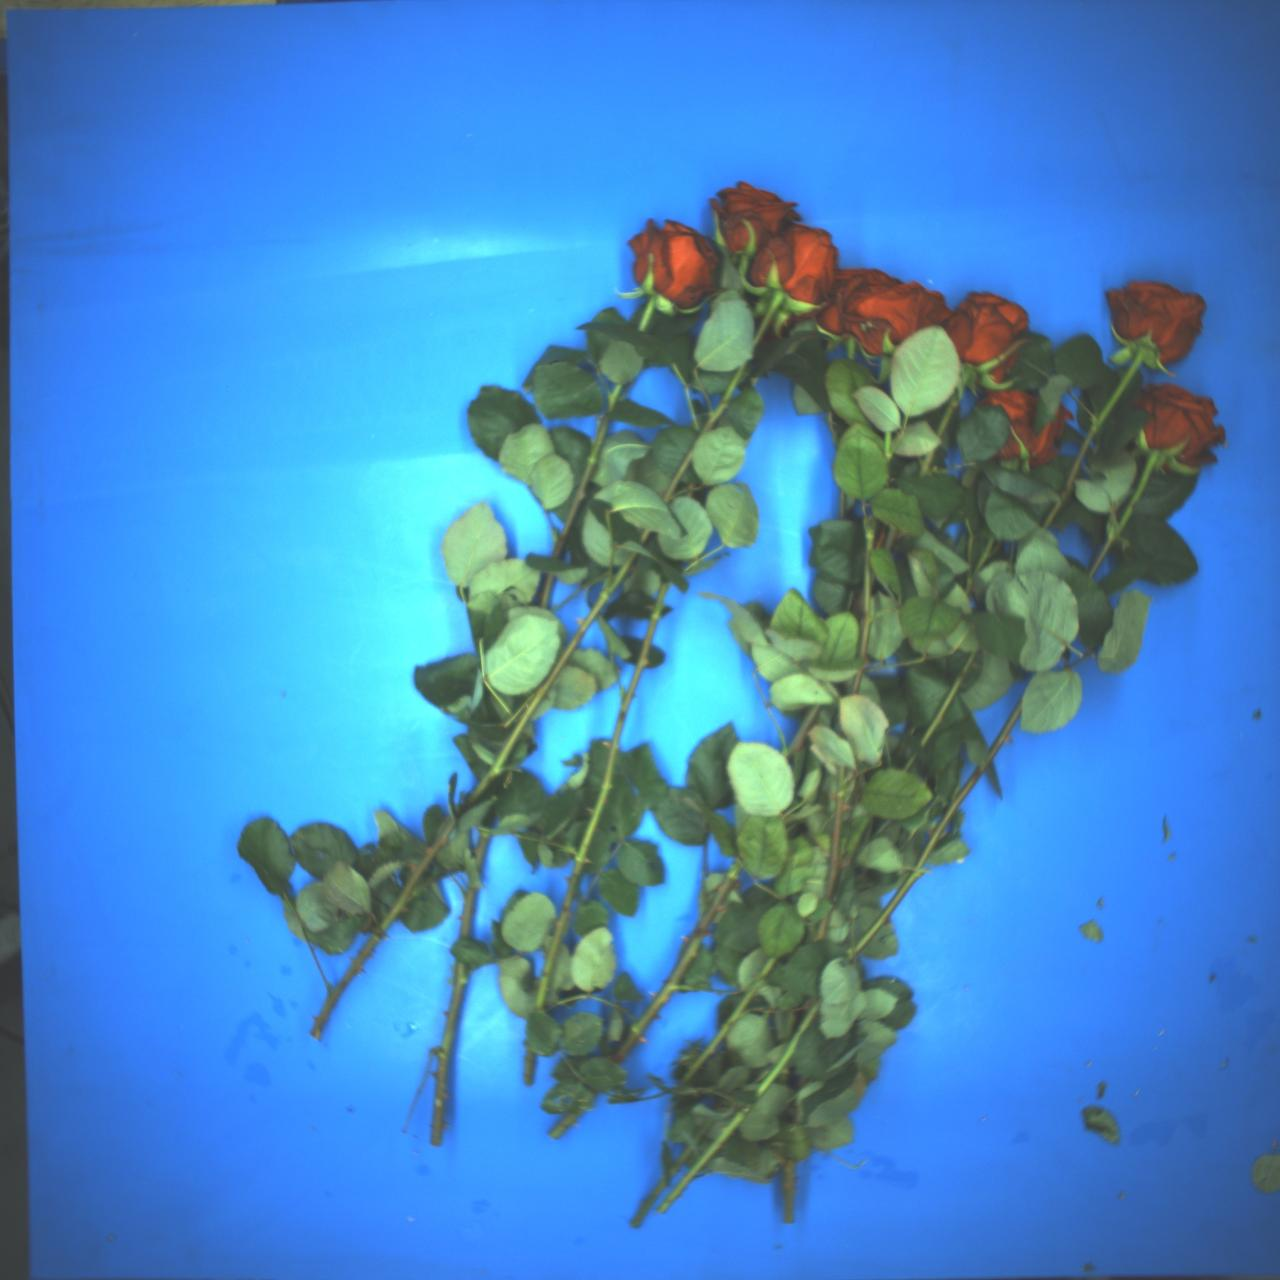Stem: (530, 584, 674, 1010), (458, 546, 639, 818), (611, 851, 744, 1073), (846, 764, 988, 962), (1039, 346, 1148, 532), (681, 954, 781, 1085), (656, 1102, 754, 1217), (1085, 447, 1162, 581), (374, 817, 458, 938), (628, 1115, 714, 1228), (424, 956, 471, 1145), (307, 930, 382, 1040), (554, 415, 610, 559), (753, 998, 822, 1104), (919, 647, 979, 749), (694, 359, 749, 447), (824, 767, 850, 903), (857, 516, 878, 660), (783, 701, 824, 767), (987, 697, 1028, 758), (745, 290, 785, 352), (662, 443, 697, 504), (934, 389, 964, 441), (547, 1103, 585, 1143), (458, 885, 478, 940), (782, 1163, 796, 1226), (470, 833, 491, 873), (522, 1041, 539, 1087), (604, 382, 624, 414), (538, 574, 554, 610), (639, 299, 656, 332), (851, 663, 866, 696), (918, 449, 934, 477), (880, 525, 898, 550), (816, 912, 830, 942), (891, 741, 907, 764), (900, 753, 918, 772), (884, 433, 893, 463), (638, 527, 652, 545), (846, 340, 856, 360), (840, 490, 846, 520), (905, 722, 917, 735)
flower: (1089, 256, 1216, 373), (612, 206, 735, 319), (832, 252, 956, 363), (1119, 373, 1235, 474), (933, 274, 1036, 377), (700, 165, 806, 264), (965, 377, 1071, 474), (745, 215, 847, 309), (811, 252, 900, 350)
